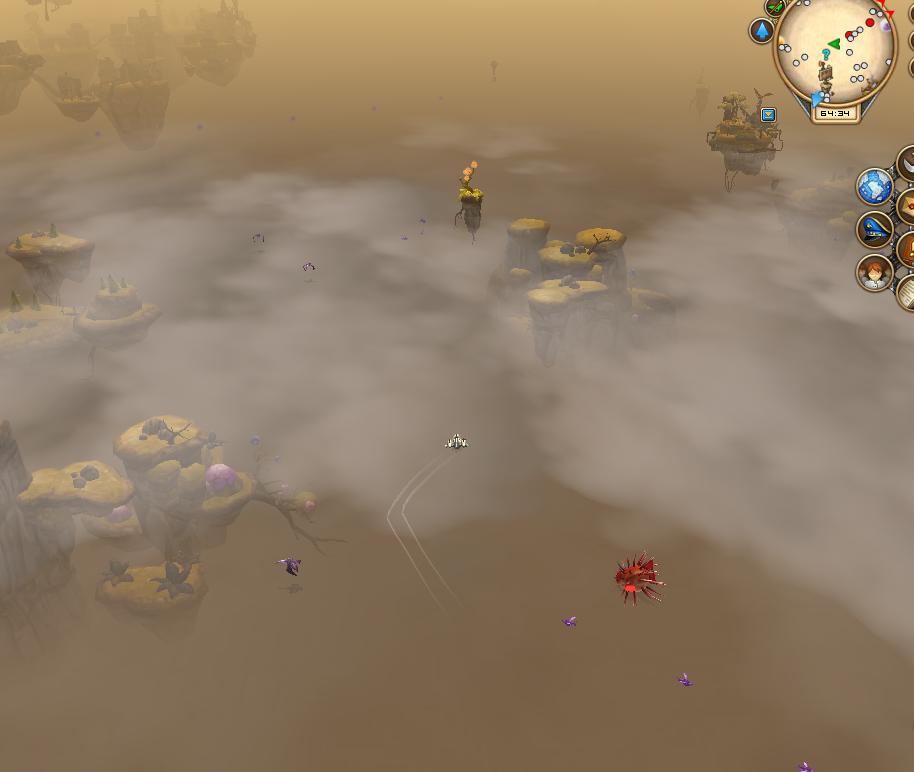dandelion-full: (452, 154, 490, 233)
